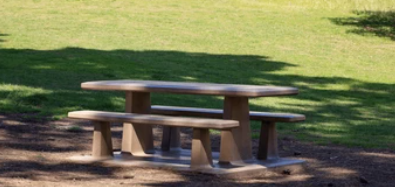obstacle: (73, 75, 305, 162)
